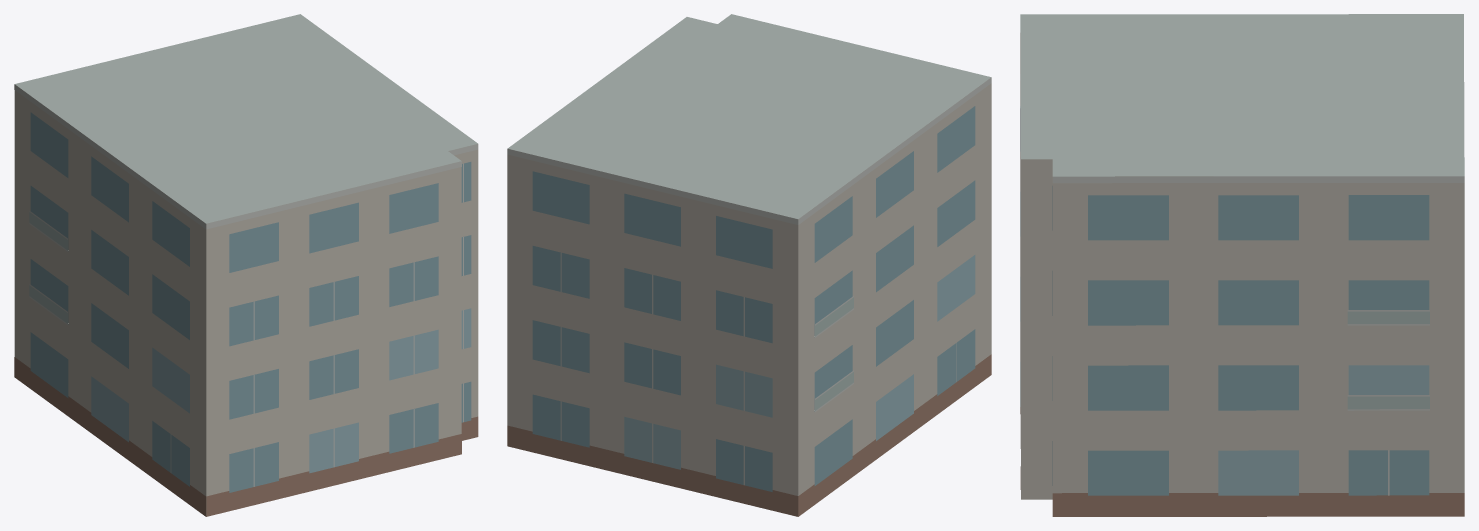
Rendered from survey-upis-32993450.glb.
The picture shows the model from 3 angles, left to right: view 1: azimuth 30°, elevation 25°; view 2: azimuth 150°, elevation 25°; view 3: azimuth 270°, elevation 25°; orthographic projection. The views are drawn at different scales.
Parts seen in each view (by area): view 1: survey-upis-32993450.tmp; view 2: survey-upis-32993450.tmp; view 3: survey-upis-32993450.tmp.
Boxes of the visible parts, x1,y1,x2,y2 form: survey-upis-32993450.tmp: [14, 14, 478, 516]; survey-upis-32993450.tmp: [507, 14, 991, 516]; survey-upis-32993450.tmp: [1020, 14, 1464, 516].
Size of the model in its own units: 12.75 by 12.4 by 14.68.
